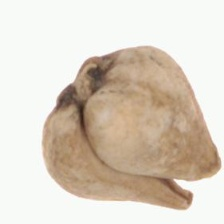L1: (55, 51, 113, 108), (163, 155, 222, 211)
L2: (40, 46, 222, 211)
